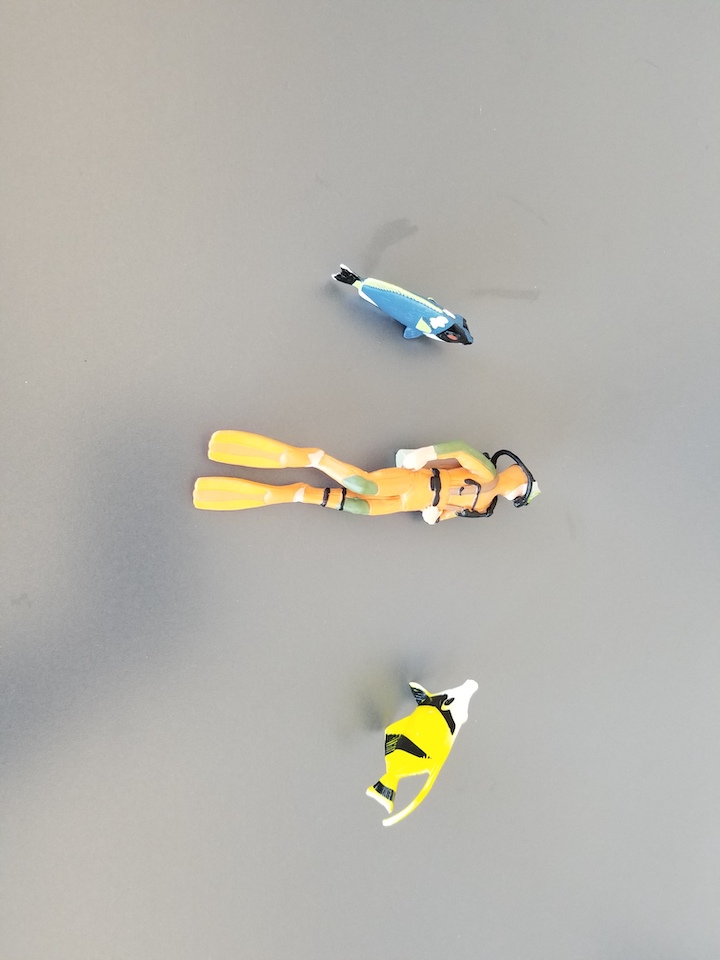danger: (365, 675, 481, 829)
diver: (193, 427, 541, 526)
fish: (326, 262, 475, 349)
